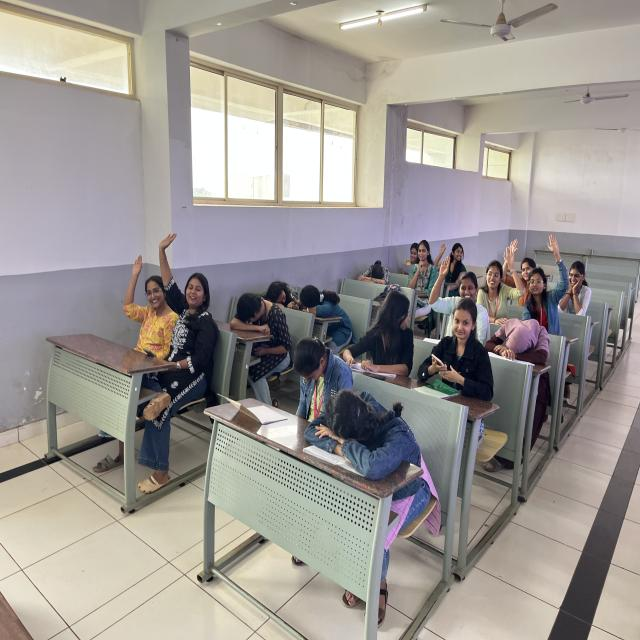Hand Rising: (153, 227, 221, 374), (126, 248, 179, 364), (524, 223, 574, 328), (428, 255, 489, 326), (482, 240, 521, 320)
Sleeping: (307, 378, 431, 510), (484, 310, 558, 381), (230, 288, 290, 371), (294, 276, 356, 348), (254, 268, 300, 314), (351, 254, 395, 289)
Using Phone: (424, 296, 484, 392)
